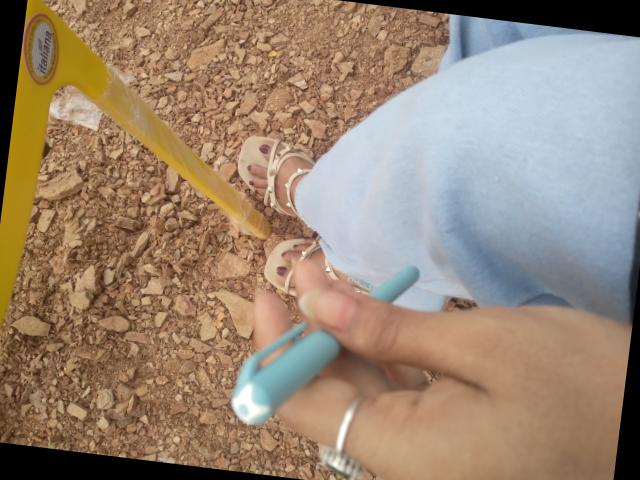PEN: (214, 235, 424, 456)
